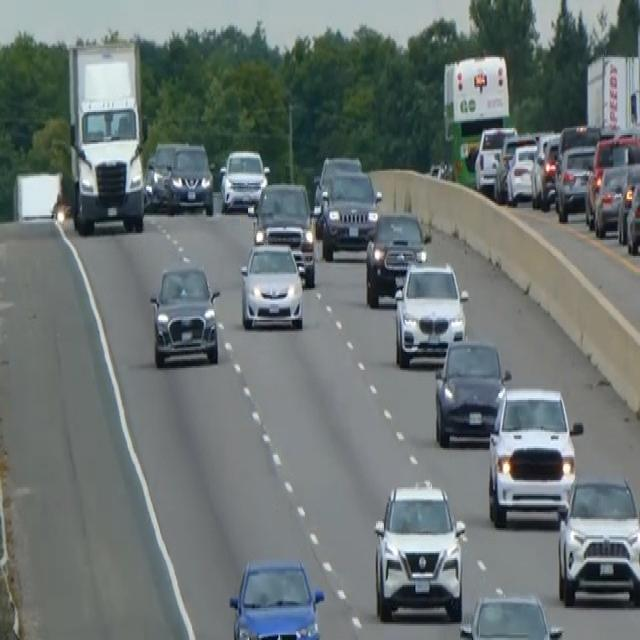car: (487, 382, 582, 526), (556, 473, 639, 606), (433, 336, 510, 446), (392, 258, 468, 368), (228, 555, 325, 638), (148, 263, 221, 368), (247, 180, 316, 286), (364, 208, 428, 308), (239, 238, 304, 331), (319, 167, 381, 260), (584, 132, 639, 230), (458, 590, 564, 638), (312, 153, 362, 229), (167, 141, 214, 215), (494, 134, 541, 206), (554, 140, 596, 220), (219, 146, 268, 212), (474, 122, 516, 194), (593, 162, 629, 236), (148, 139, 183, 208), (530, 133, 560, 208), (616, 160, 639, 251), (625, 176, 639, 256)
jeep: (370, 475, 467, 622)
lorry: (65, 37, 147, 235)
